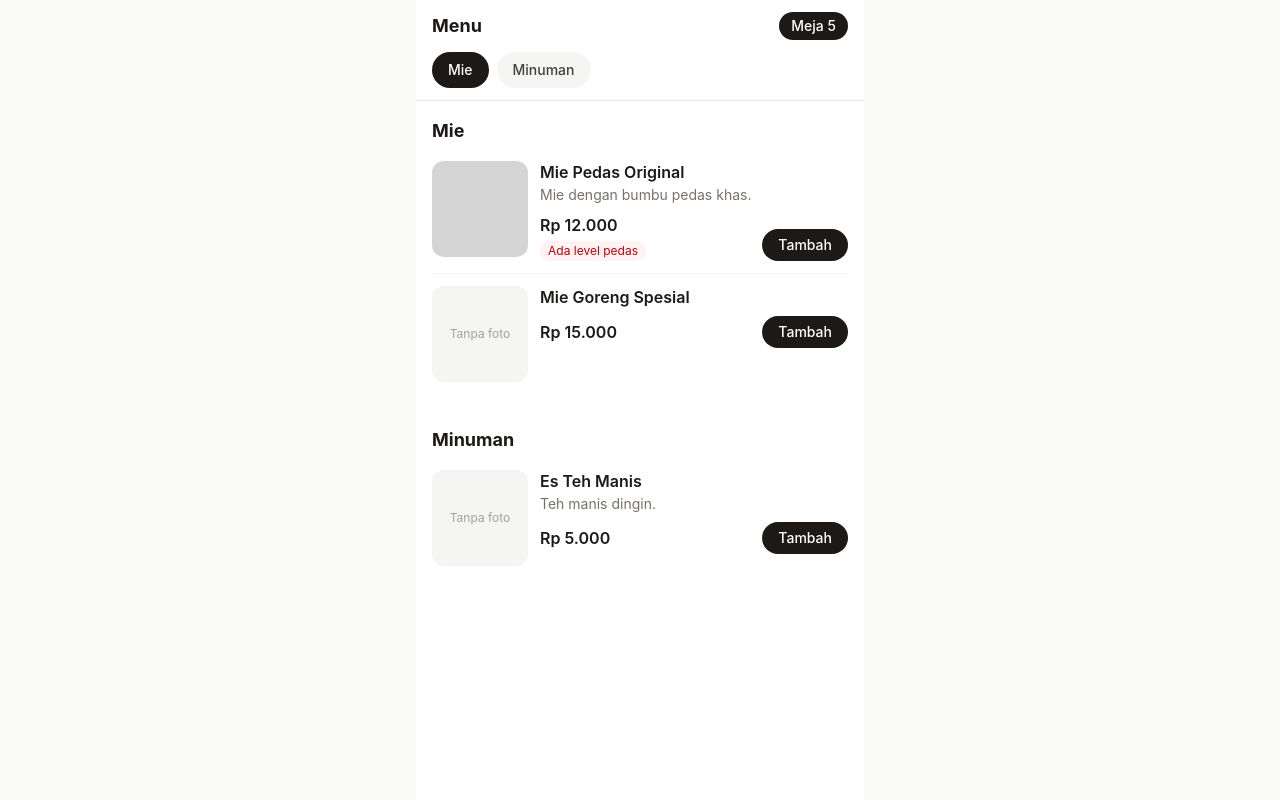
Test: checkout dari halaman menu › tombol kembali membawa pembeli ke keranjang
Click the button with aria-label "Tambah Es Teh Manis": {"x": 805, "y": 538} [762,522,848,554]
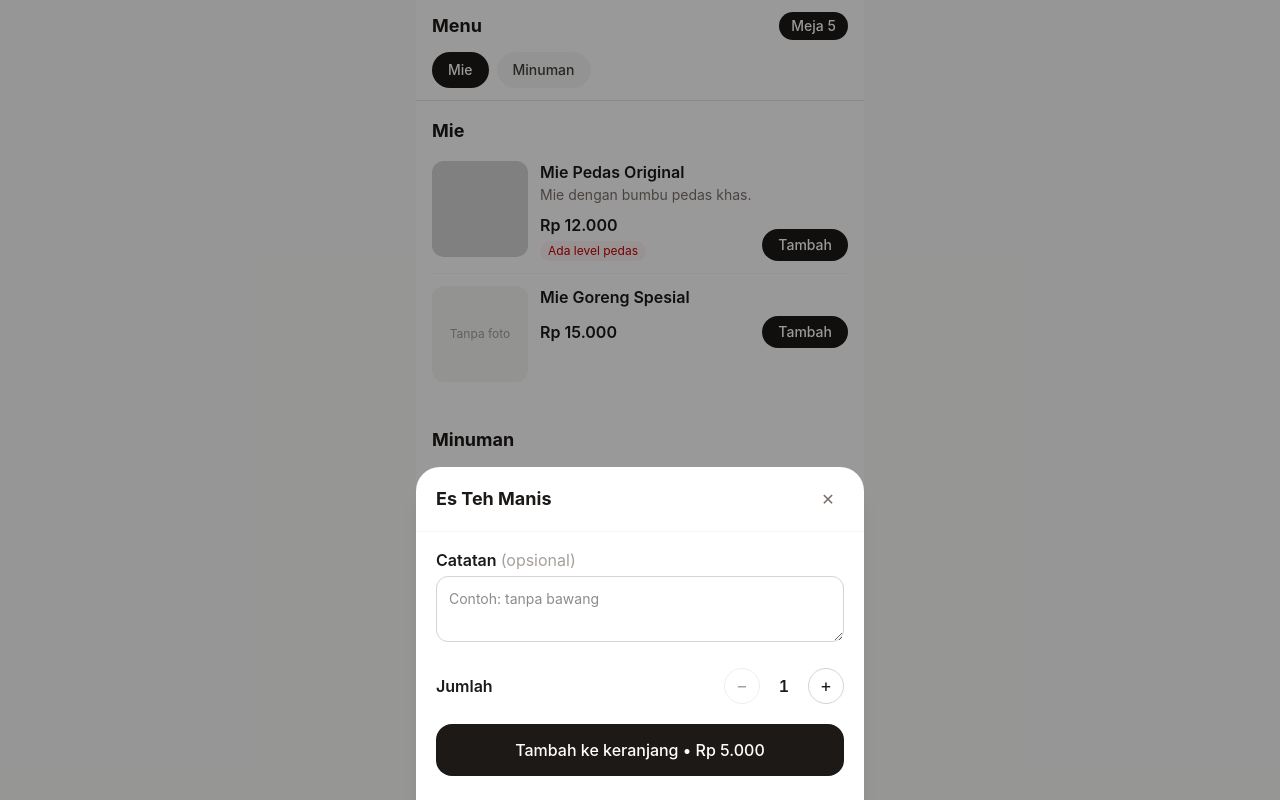
Click the button "Tambah ke keranjang • Rp 5.000": {"x": 640, "y": 750} [436,724,844,776]
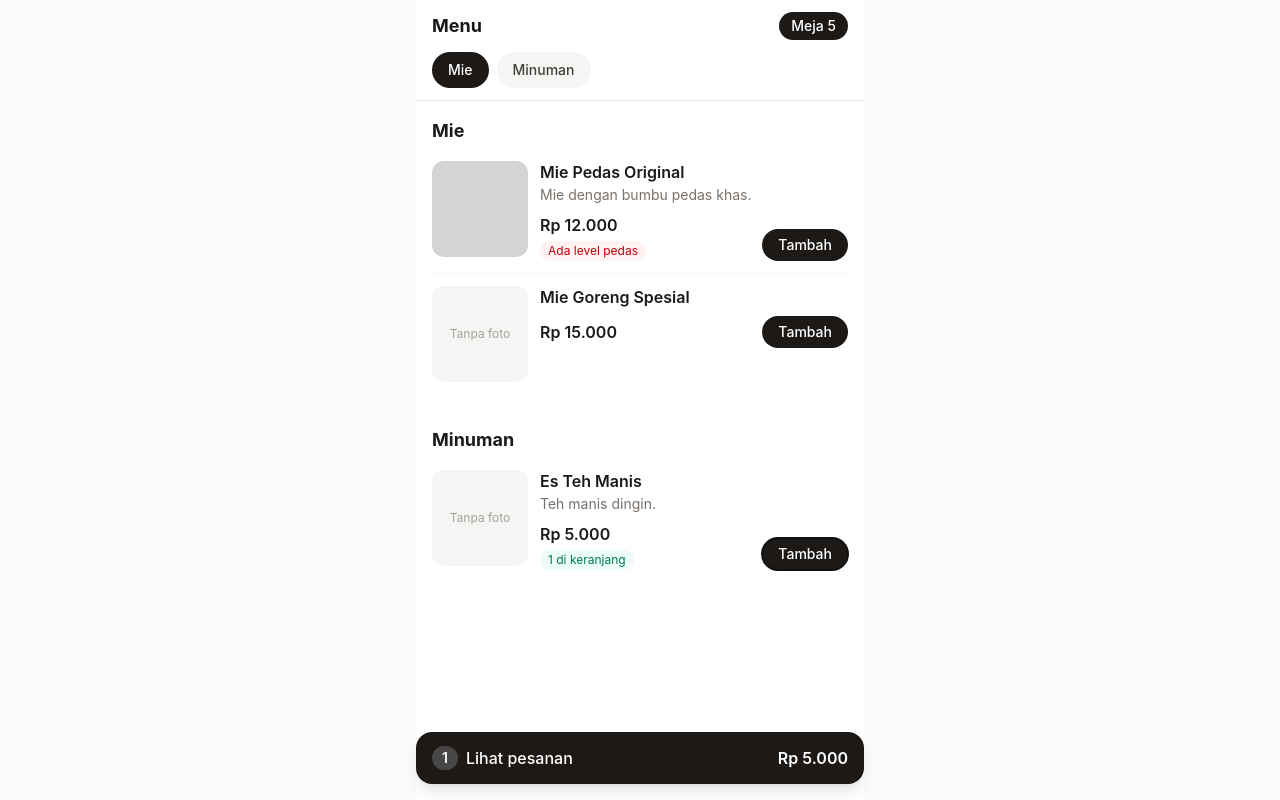
Click the button "1 Lihat pesanan Rp 5.000": {"x": 519, "y": 758} [416,732,864,784]
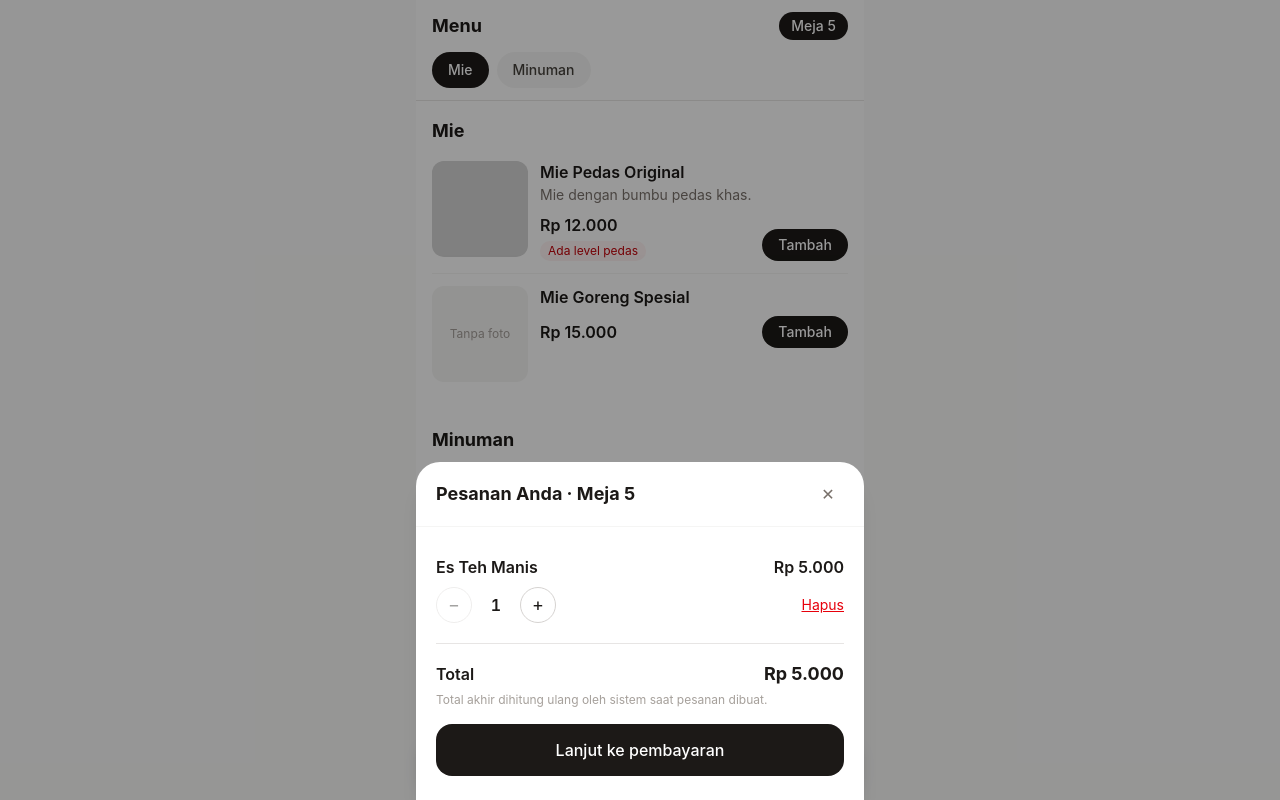
Click the button "Lanjut ke pembayaran": {"x": 640, "y": 750} [436,724,844,776]
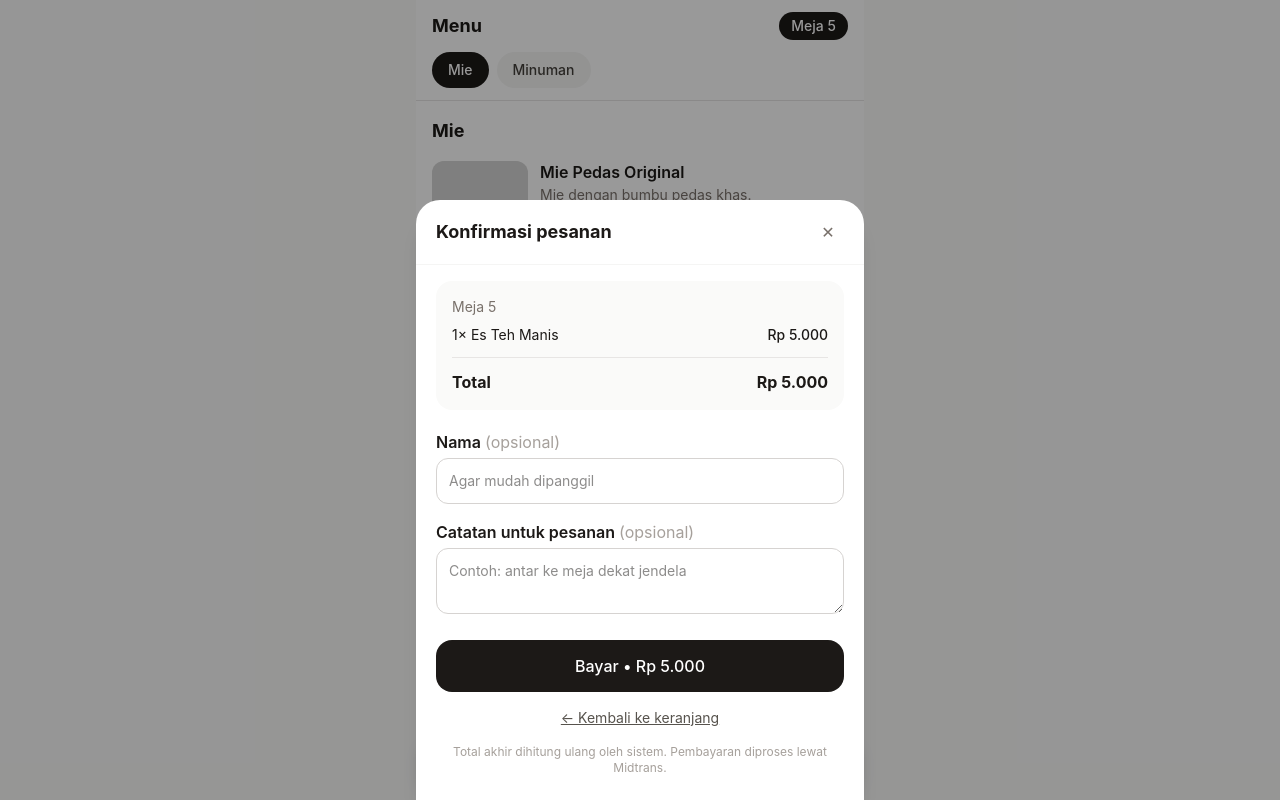
Click the button "← Kembali ke keranjang": {"x": 640, "y": 718} [436,700,844,736]
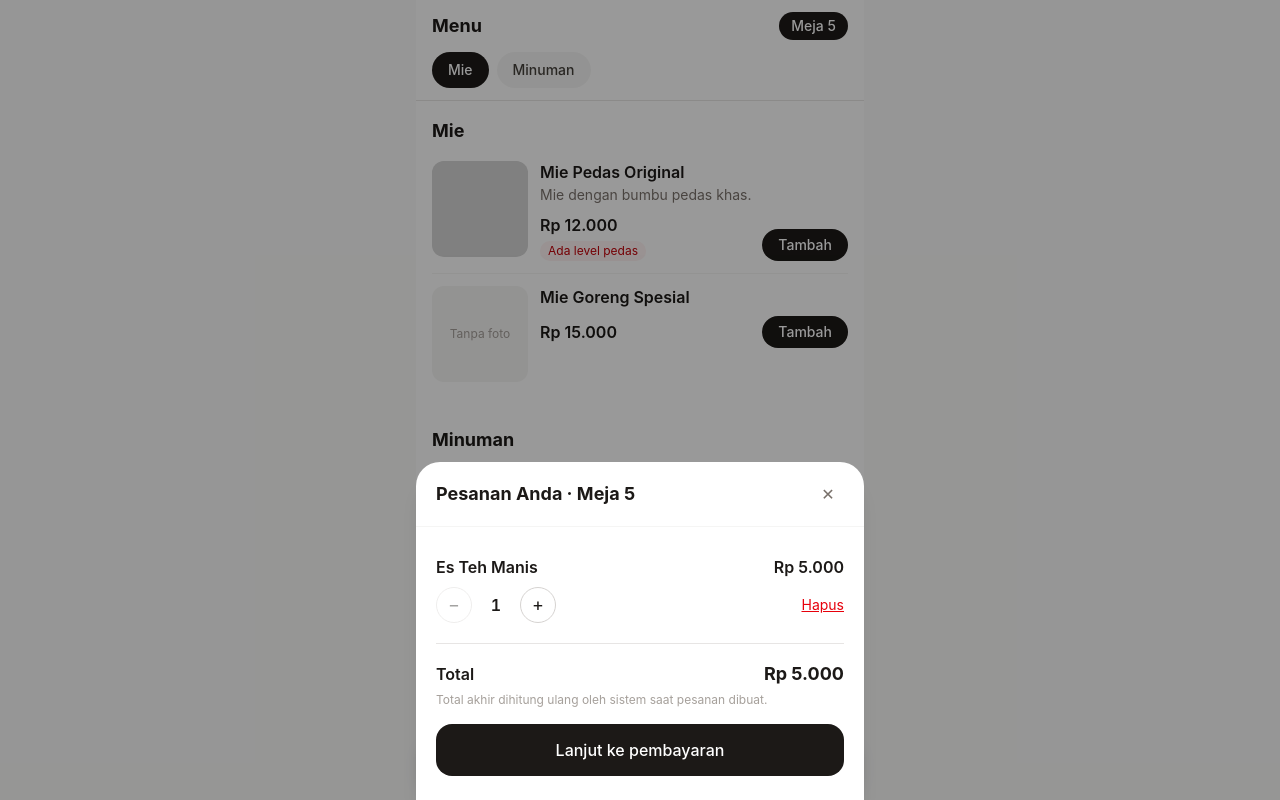
Check: the dialog "Pesanan Anda" is shown, box [416,462,864,799]
Check: the heading "Konfirmasi pesanan" is gone
